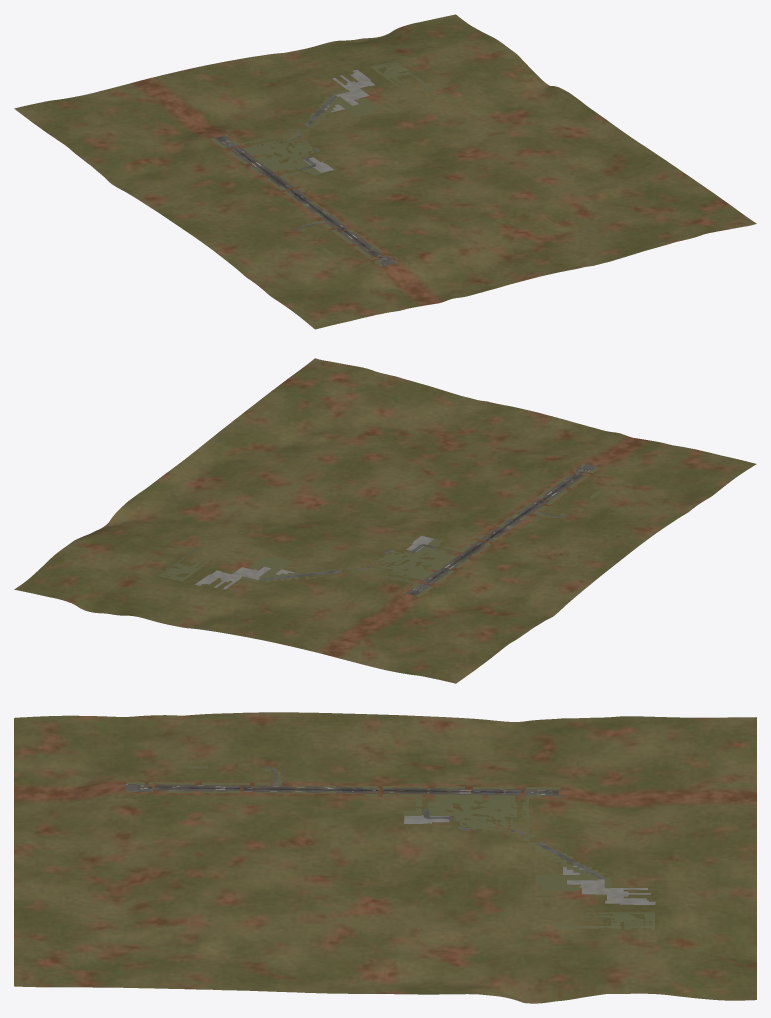
The model's file is sdsc_placa_campo.leve.glb.
The picture shows the model from 3 angles, top to bottom: view 1: azimuth 30°, elevation 25°; view 2: azimuth 150°, elevation 25°; view 3: azimuth 270°, elevation 25°; orthographic projection. The views are drawn at different scales.
Visible parts, largest first — view 1: sdsc_placa_campo; view 2: sdsc_placa_campo; view 3: sdsc_placa_campo.
Part boxes in pixels (<box>): sdsc_placa_campo: <box>14,14,756,329</box>; sdsc_placa_campo: <box>14,358,756,683</box>; sdsc_placa_campo: <box>14,712,756,1003</box>.
Bounding box in the file's own units: 2500 × 115 × 2950.
8 materials, 6 textured.
